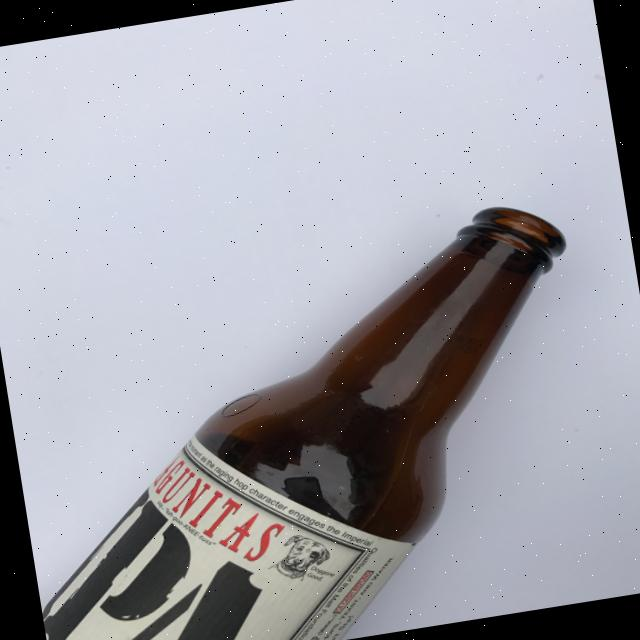glass: (0, 195, 622, 640)
